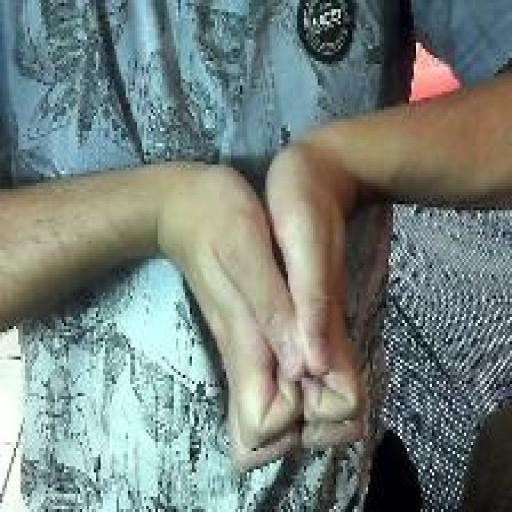I -boar-: (170, 145, 367, 477)
